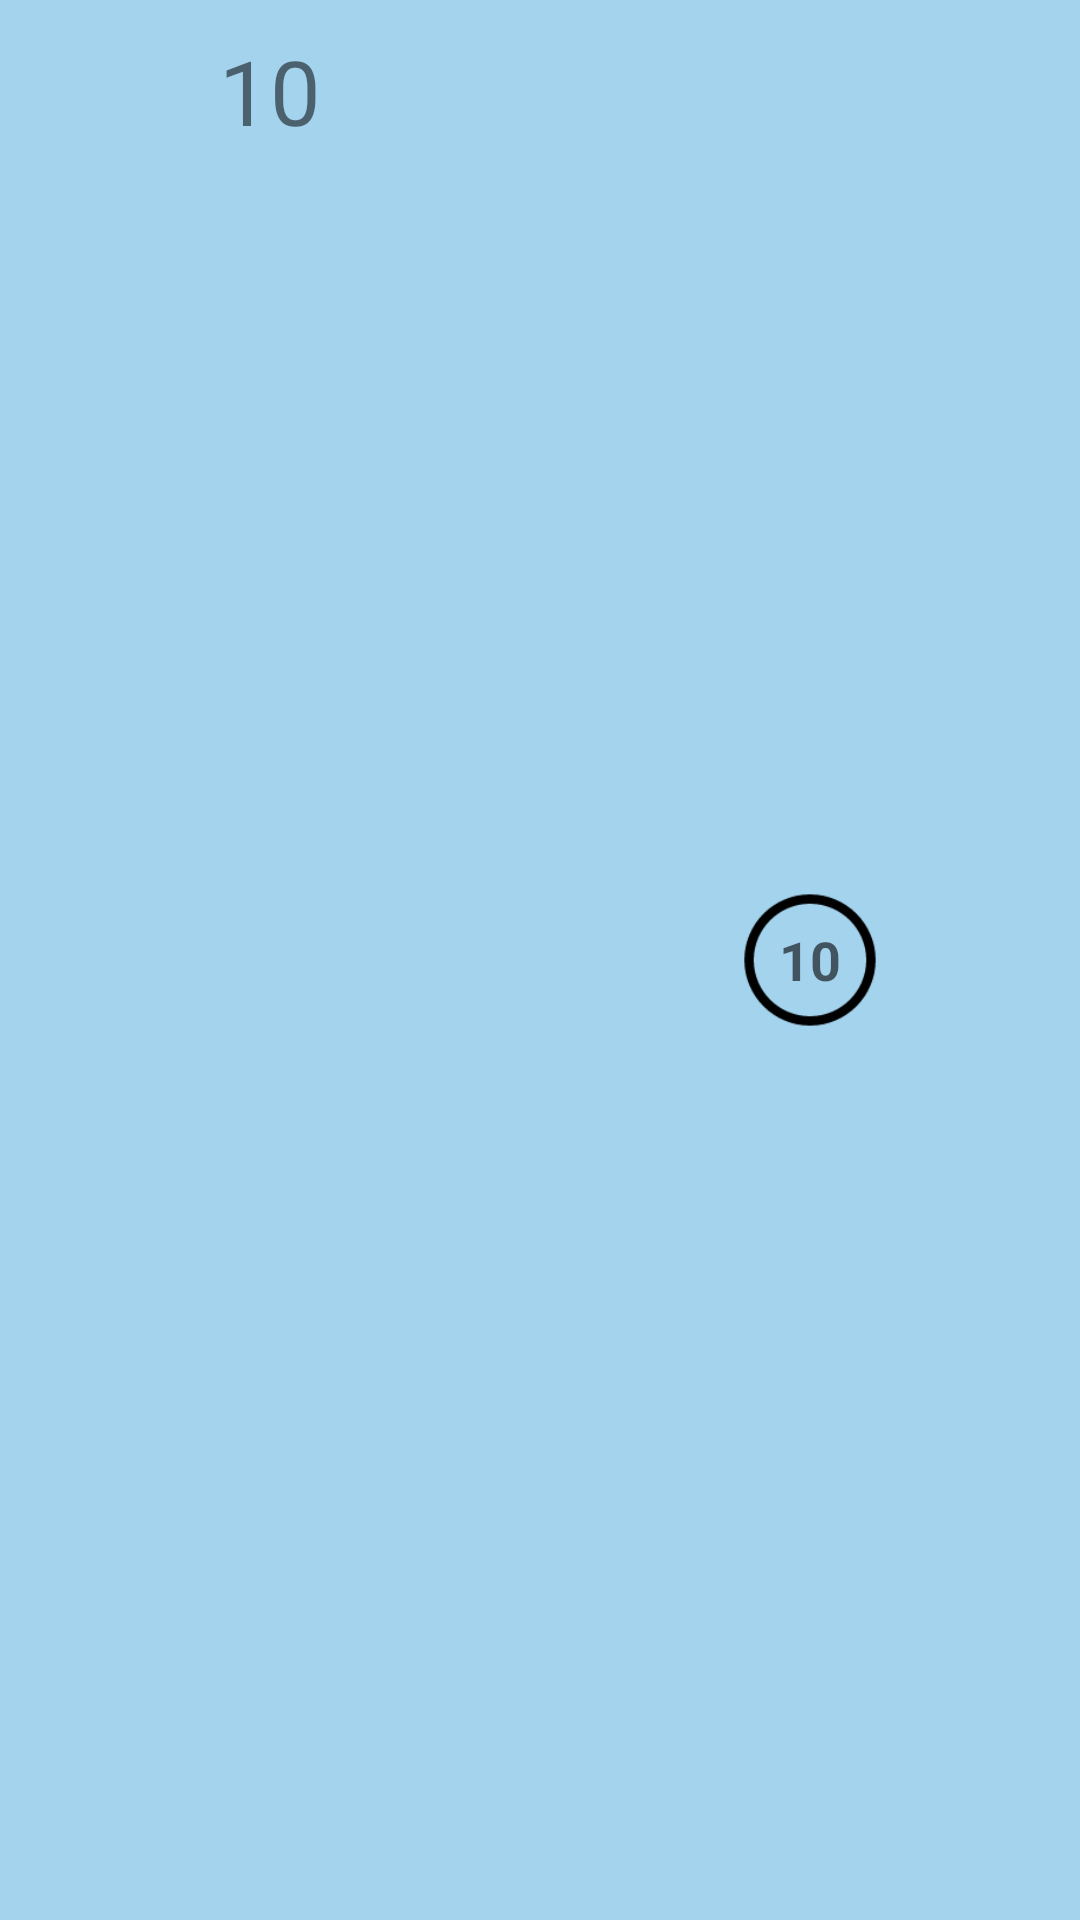

Screen size 1080*1920. Icon name, then its box in pixels as [x1,y1,x2,y2]:
circle: [744,894,876,1026]
